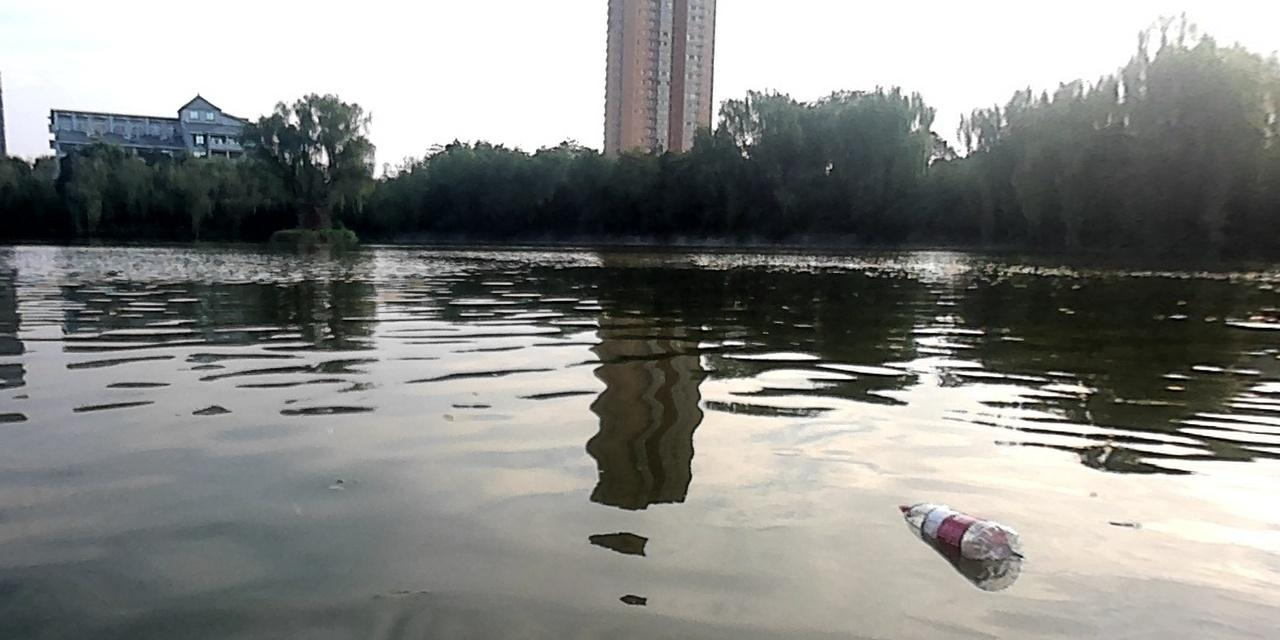bottle: (895, 501, 1023, 565)
